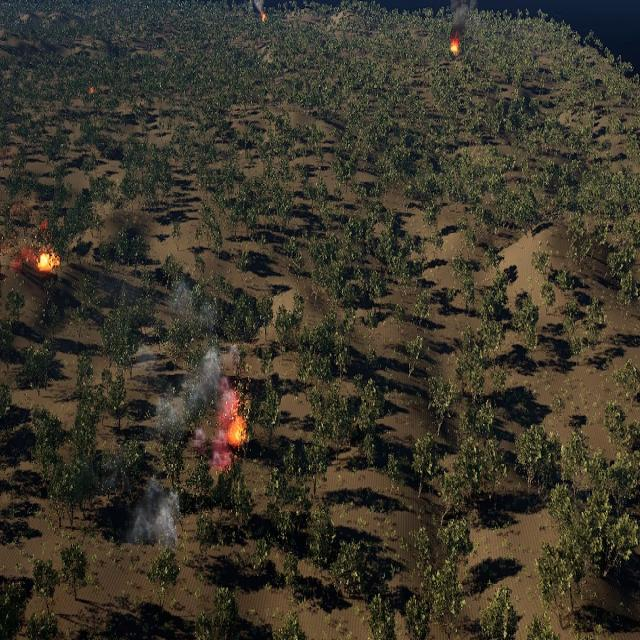fire: (229, 410, 248, 447), (38, 252, 61, 269), (451, 38, 460, 53), (40, 218, 49, 230), (259, 11, 267, 22), (91, 88, 96, 96)
smoke: (133, 280, 240, 477), (124, 478, 181, 546), (10, 216, 51, 266), (446, 0, 478, 32), (247, 0, 264, 11)
